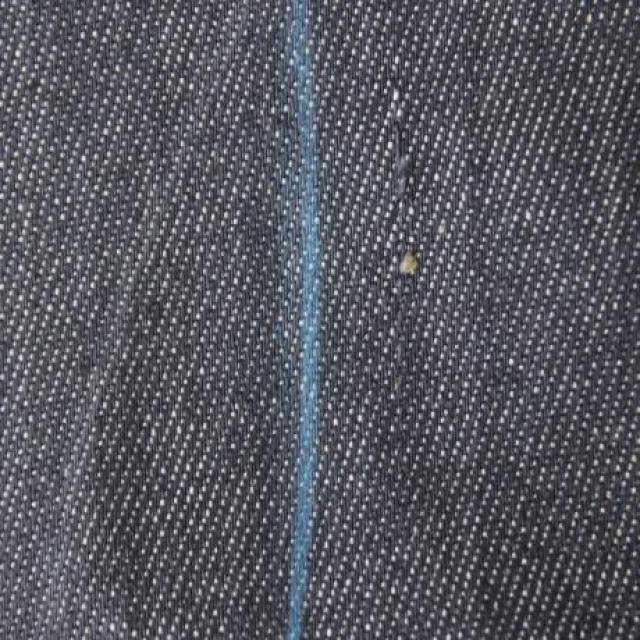Thread_other: (334, 28, 526, 460)
